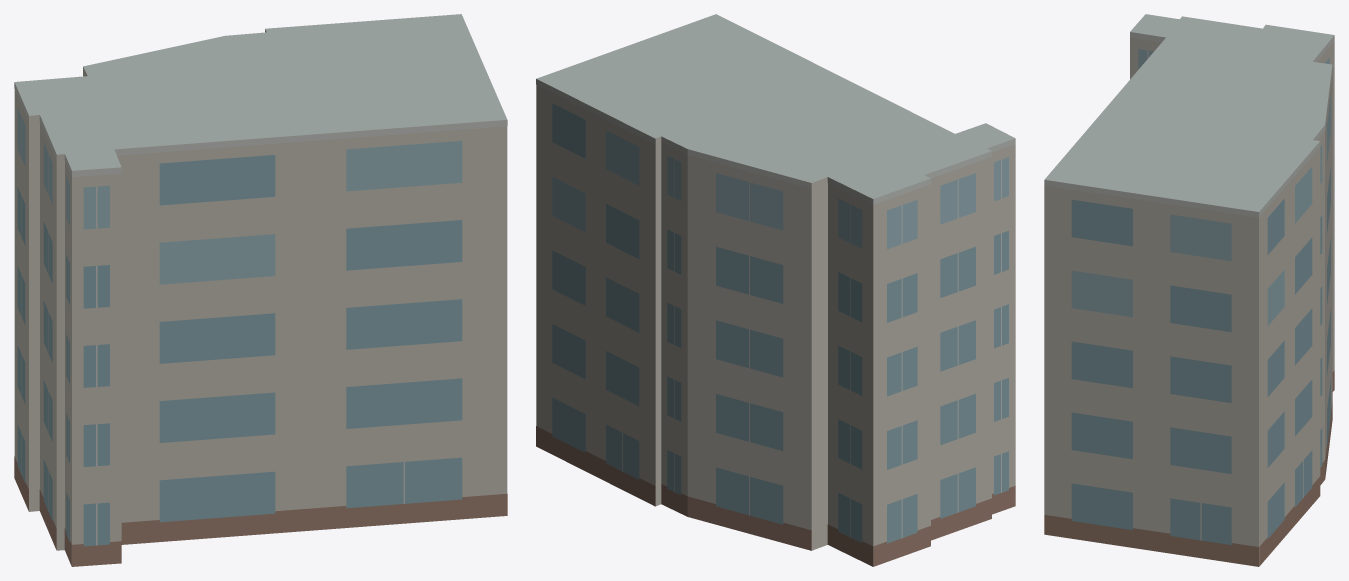
File: survey-upis-32606969.glb
3 renders of one model, left to right at view 1: azimuth 30°, elevation 25°; view 2: azimuth 150°, elevation 25°; view 3: azimuth 270°, elevation 25°, orthographic. The views are drawn at different scales.
Visible parts, largest first — view 1: survey-upis-32606969.tmp; view 2: survey-upis-32606969.tmp; view 3: survey-upis-32606969.tmp.
Boxes of the visible parts, box(x1,y1,x2,y2) form: survey-upis-32606969.tmp: box(14, 14, 507, 566); survey-upis-32606969.tmp: box(536, 14, 1015, 566); survey-upis-32606969.tmp: box(1044, 14, 1334, 566).
Size of the model in its own units: 18.27 by 15.25 by 11.32.
